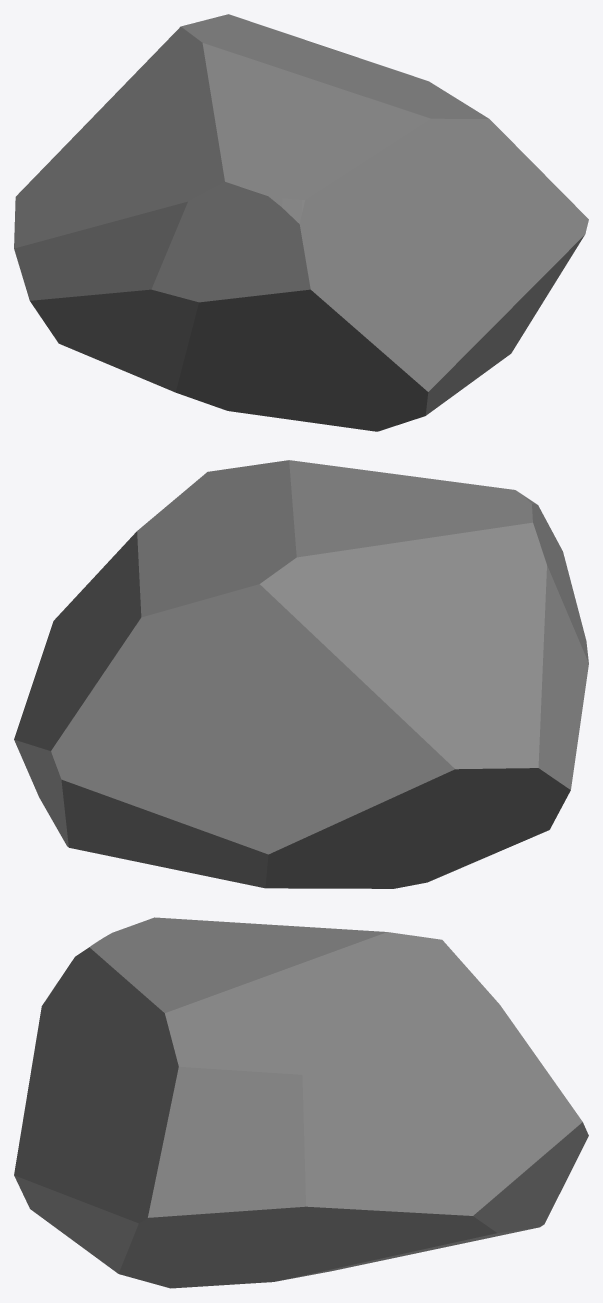
Rendered from Pedra4.fbx.
3 views of the same model, one above another, from view 1: azimuth 30°, elevation 25°; view 2: azimuth 150°, elevation 25°; view 3: azimuth 270°, elevation 25° (orthographic). The views are drawn at different scales.
Parts seen in each view (by area): view 1: Sphere.003; view 2: Sphere.003; view 3: Sphere.003.
Part boxes in pixels (x1,y1,x2,y2): Sphere.003: (14, 14, 588, 431); Sphere.003: (14, 460, 588, 888); Sphere.003: (14, 917, 588, 1288).
Size of the model in its own units: 267 by 154 by 278.
